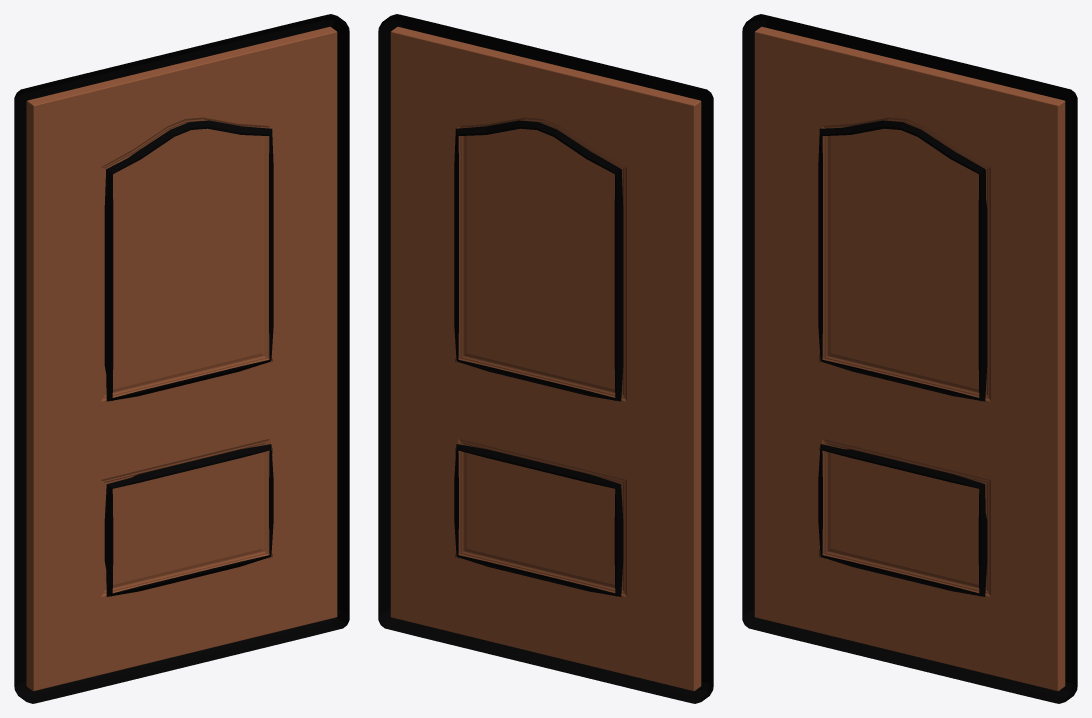
File: Door.fbx
The picture shows the model from 3 angles, left to right: view 1: azimuth 30°, elevation 25°; view 2: azimuth 150°, elevation 25°; view 3: azimuth 330°, elevation 25°; orthographic projection.
Visible parts, largest first — view 1: Door; view 2: Door; view 3: Door.
Boxes of the visible parts, x1,y1,x2,y2 form: Door: (14,14,349,703); Door: (378,14,713,703); Door: (742,14,1077,703).
Bounding box in the file's own units: 7.54 × 13.45 × 0.8023.
